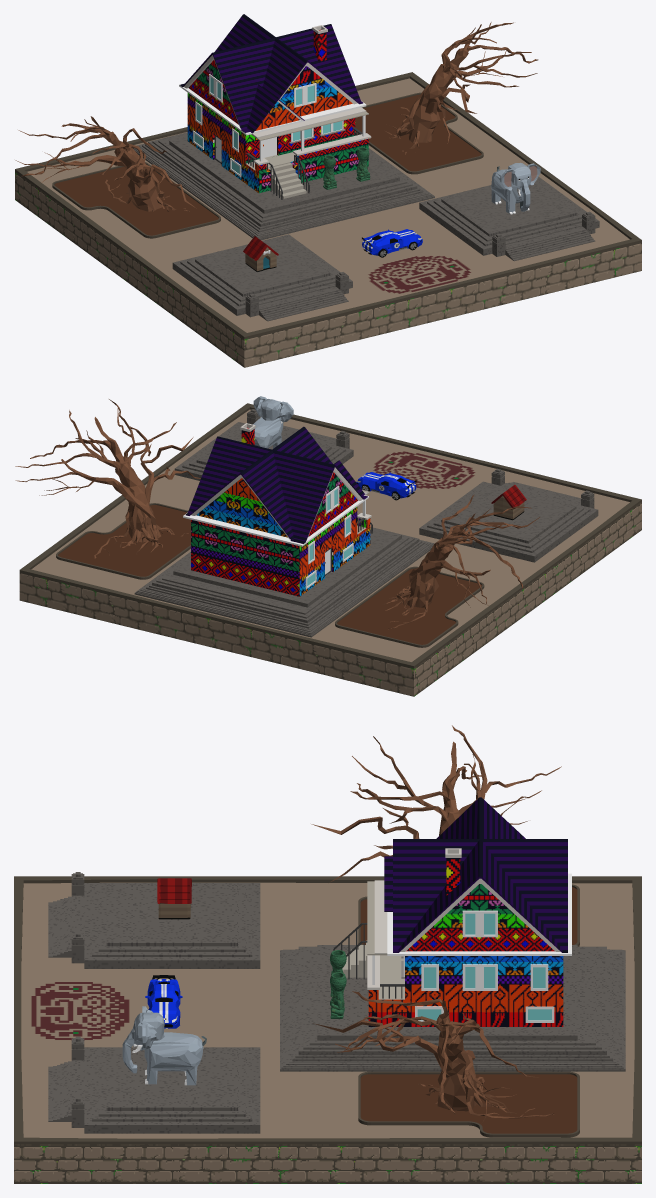
3 views of the same model, one above another, from view 1: azimuth 30°, elevation 25°; view 2: azimuth 150°, elevation 25°; view 3: azimuth 270°, elevation 25° (orthographic). The views are drawn at different scales.
Visible parts, largest first — view 1: Cube.011, Cube.966, ANIMAL_ELEFANTE, VEHICLES_RACING_CAR, OBJRANDOM_DOGHOUSE; view 2: Cube.011, Cube.966, ANIMAL_ELEFANTE, VEHICLES_RACING_CAR, OBJRANDOM_DOGHOUSE; view 3: Cube.011, Cube.966, ANIMAL_ELEFANTE, VEHICLES_RACING_CAR, OBJRANDOM_DOGHOUSE.
Boxes of the visible parts, x1=… form: Cube.011: x1=15, y1=22, x2=641, y2=367; Cube.966: x1=179, y1=14, x2=371, y2=199; ANIMAL_ELEFANTE: x1=491, y1=162, x2=540, y2=214; VEHICLES_RACING_CAR: x1=362, y1=229, x2=422, y2=257; OBJRANDOM_DOGHOUSE: x1=243, y1=236, x2=278, y2=271; Cube.011: x1=15, y1=399, x2=641, y2=696; Cube.966: x1=183, y1=423, x2=372, y2=596; ANIMAL_ELEFANTE: x1=253, y1=396, x2=293, y2=448; VEHICLES_RACING_CAR: x1=356, y1=472, x2=416, y2=500; OBJRANDOM_DOGHOUSE: x1=491, y1=485, x2=526, y2=520; Cube.011: x1=14, y1=725, x2=641, y2=1183; Cube.966: x1=333, y1=797, x2=571, y2=1026; ANIMAL_ELEFANTE: x1=122, y1=1006, x2=206, y2=1085; VEHICLES_RACING_CAR: x1=145, y1=975, x2=182, y2=1028; OBJRANDOM_DOGHOUSE: x1=157, y1=878, x2=191, y2=919.
Size of the model in its own units: 5099 by 1683 by 4000.
Materials: 43 (10 with a texture image).
